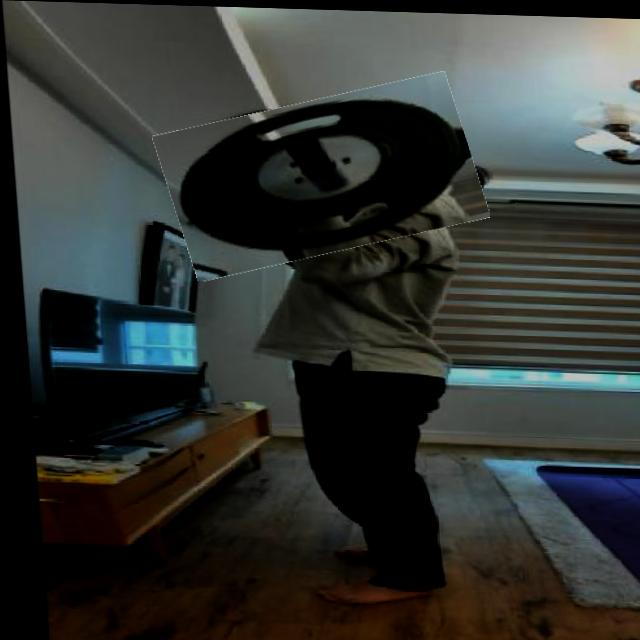barbell: (154, 80, 485, 271)
